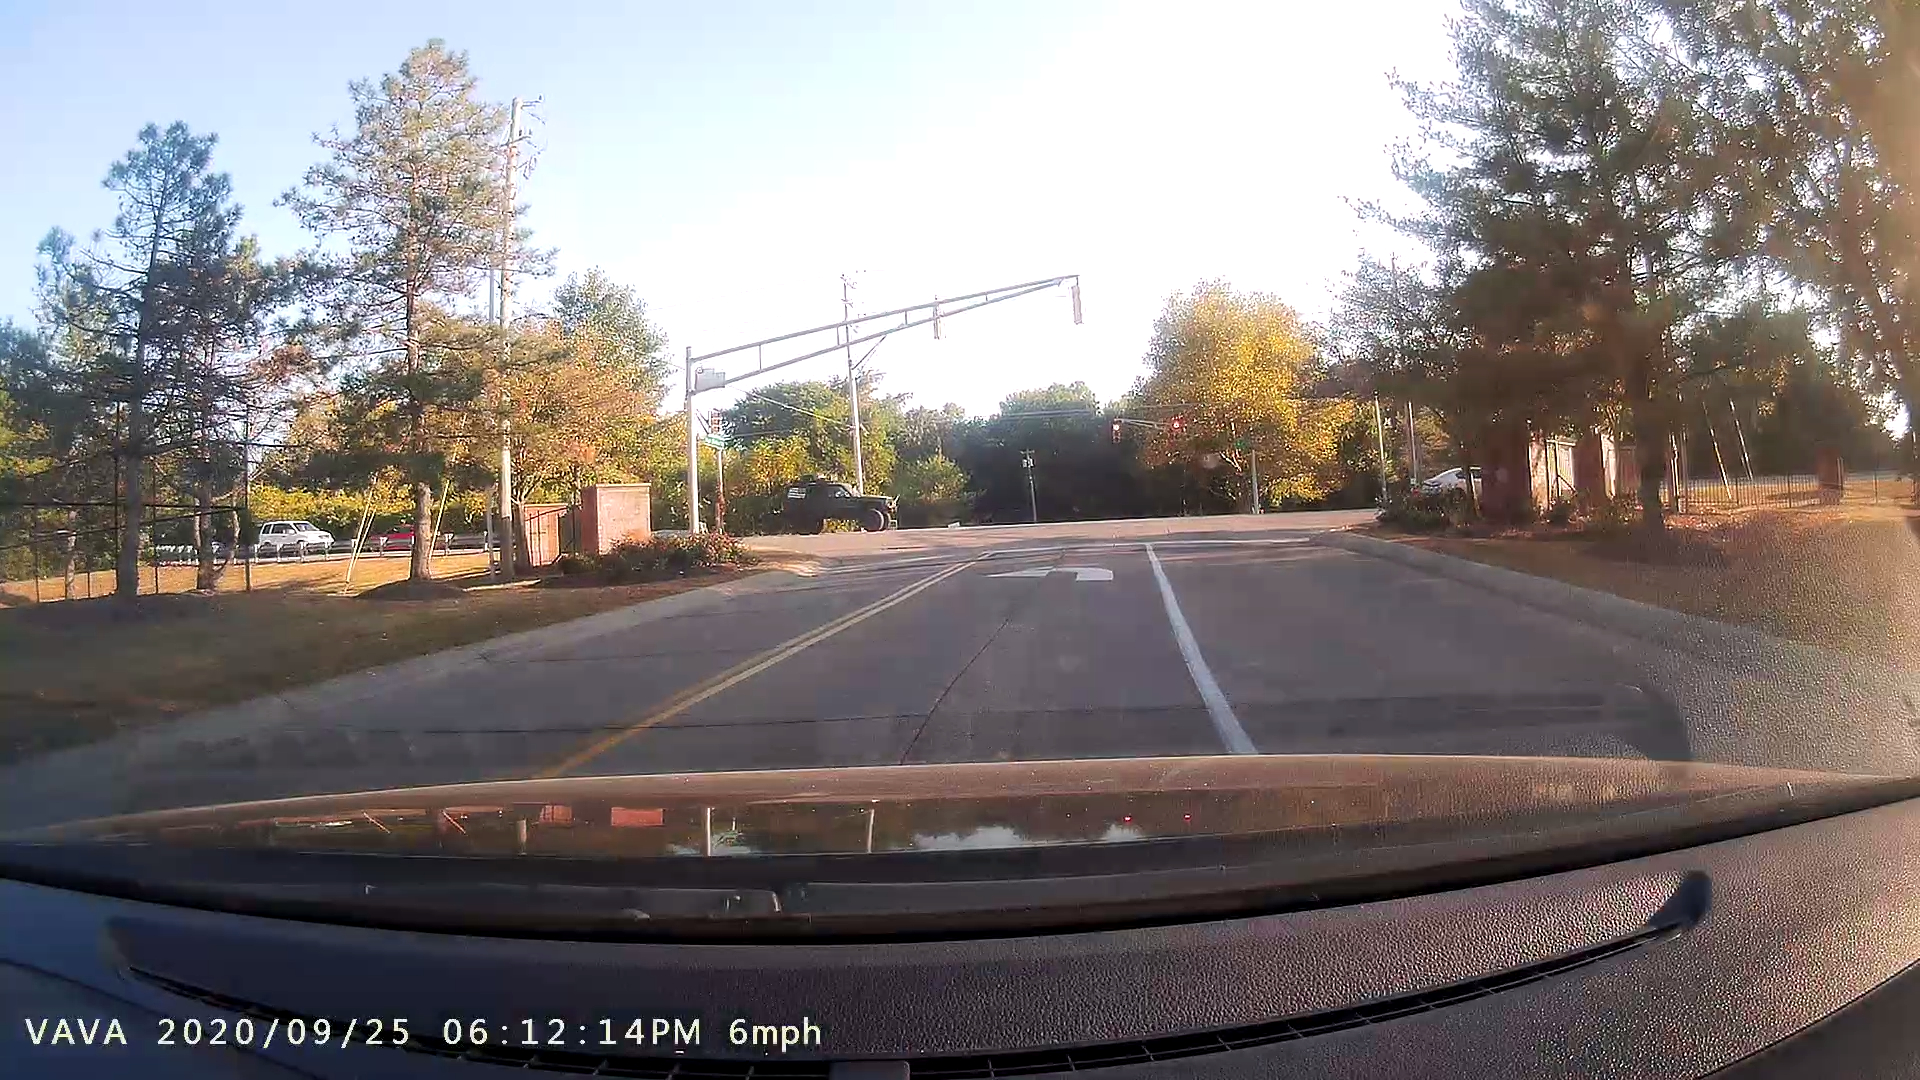left_turn: (985, 559, 1129, 588)
